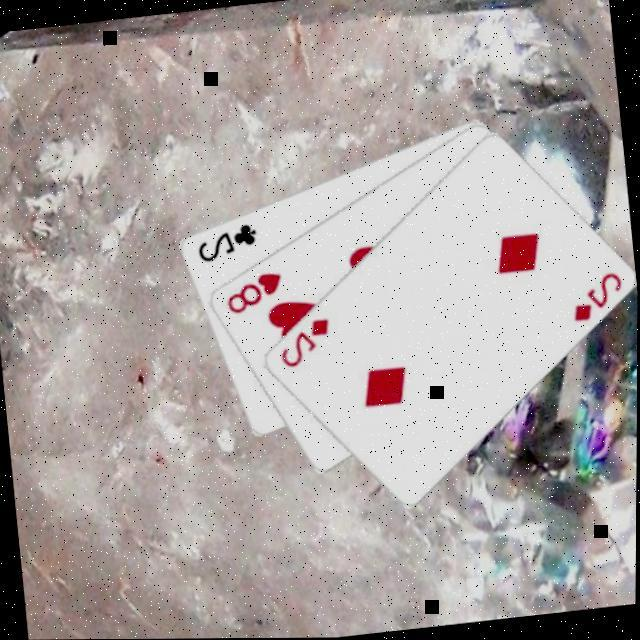2C: (192, 220, 262, 267)
2D: (566, 270, 629, 328), (275, 316, 336, 374)
8H: (221, 270, 288, 320)
